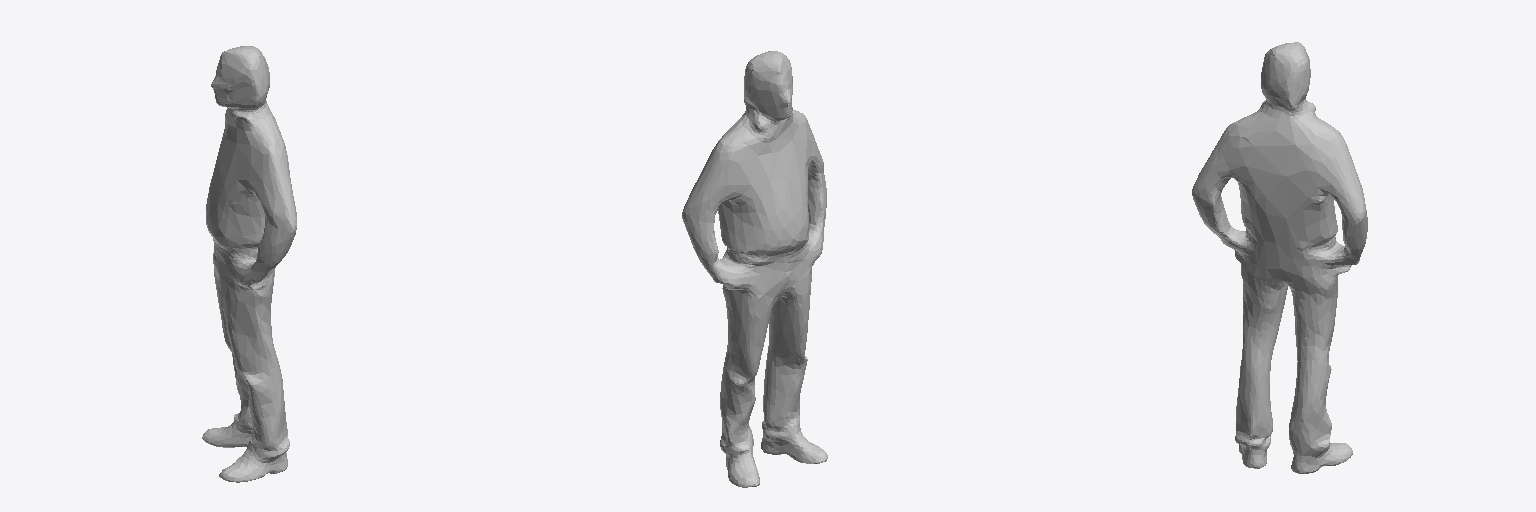
The model's file is StandingFigureMesh.obj.
The picture shows the model from 3 angles: view 1: azimuth 30°, elevation 25°; view 2: azimuth 150°, elevation 25°; view 3: azimuth 270°, elevation 25°; orthographic projection.
Size of the model in its own units: 425 by 1800 by 695.